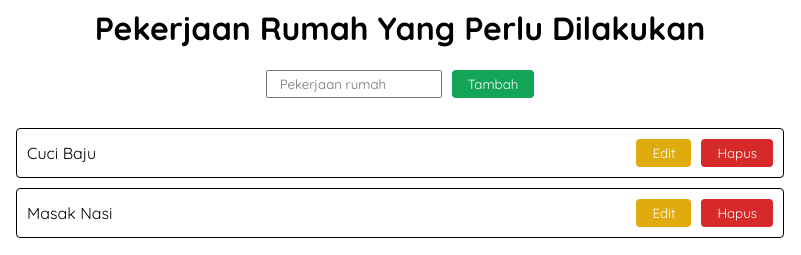
it: delete successful
Click the 1st button "Hapus": {"x": 737, "y": 153} 701,139 -> 773,167
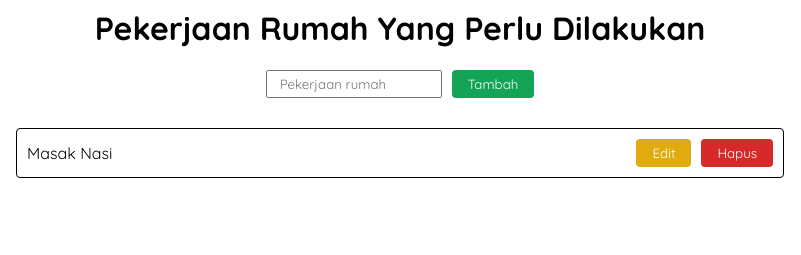
Check: the number of buttons "Hapus" is 1, box 701,139 -> 773,167
